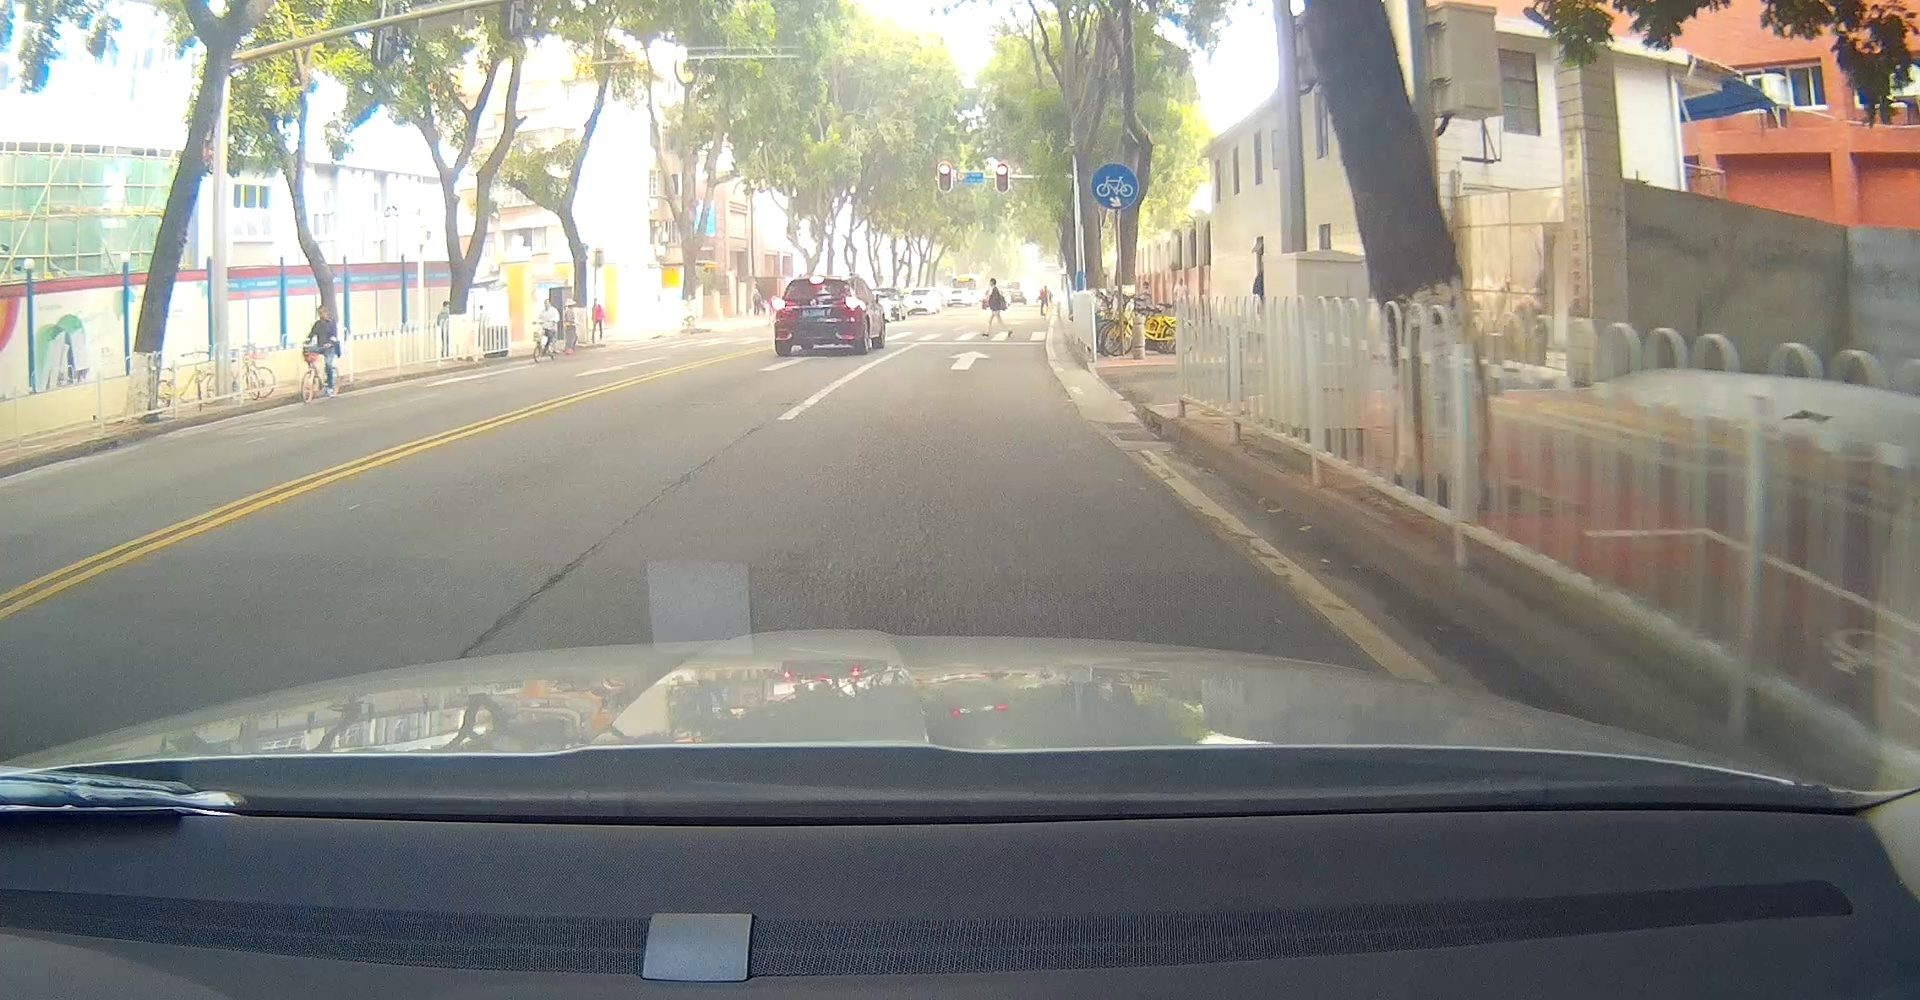L_light: (775, 299, 796, 310)
R_light: (833, 296, 858, 308)
T_light: (810, 278, 824, 283)
day-brake: (773, 275, 861, 357)
